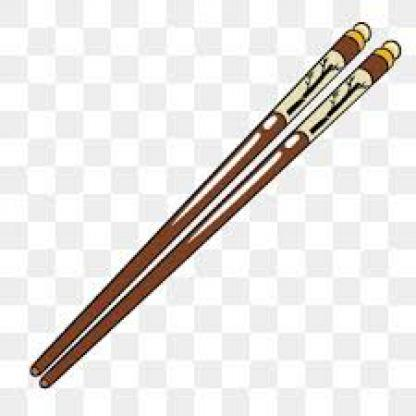chopstick: (37, 39, 399, 388), (30, 19, 370, 376)
